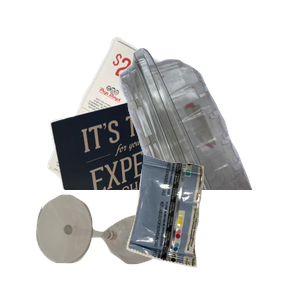glass: (34, 192, 187, 300)
paper: (45, 34, 230, 214)
plastic: (71, 45, 300, 225)
trash: (124, 152, 300, 300)
